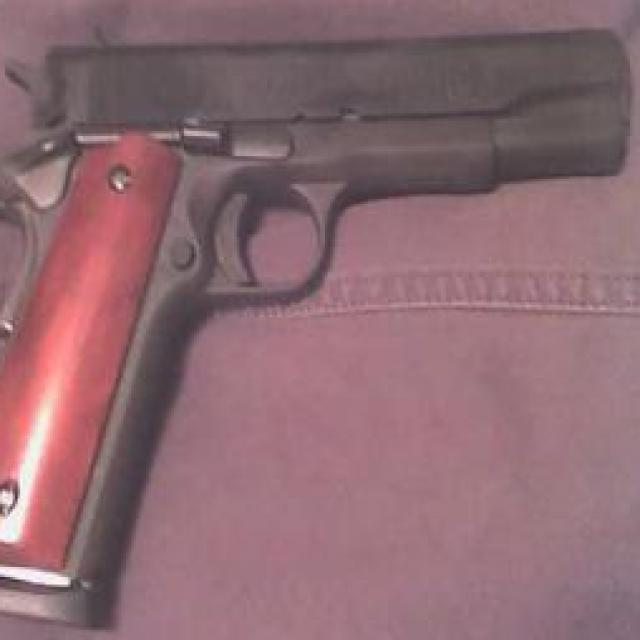pistol: (0, 20, 633, 619)
